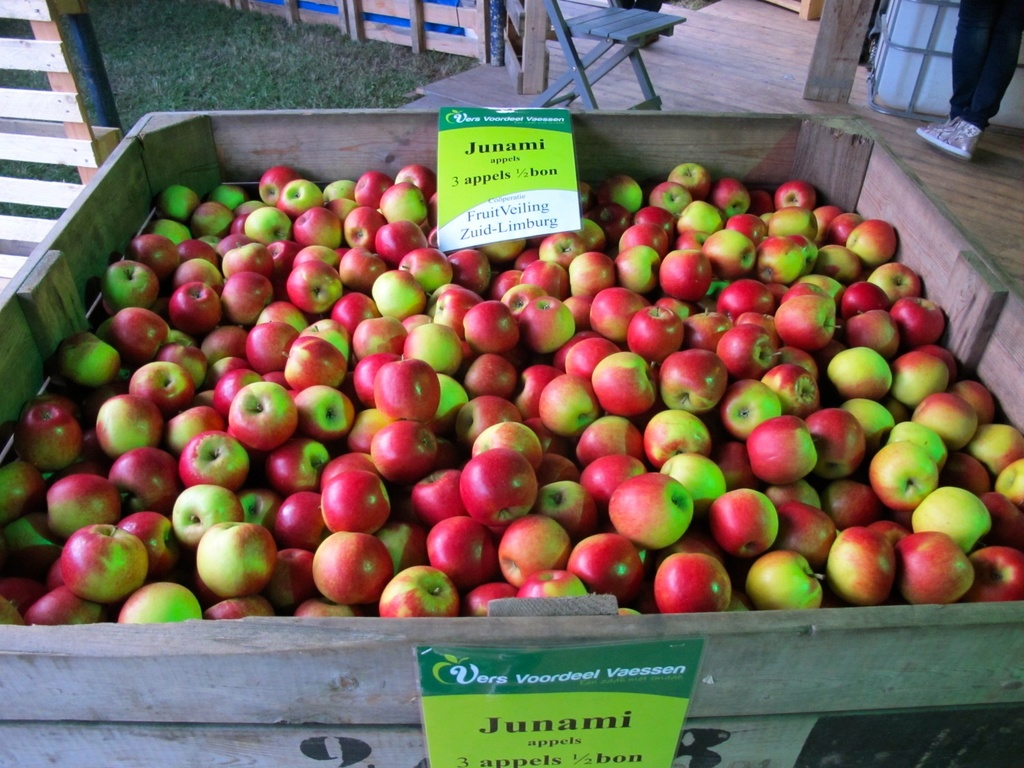Apple: (0, 160, 1023, 622), (309, 533, 403, 604), (195, 519, 277, 597)
